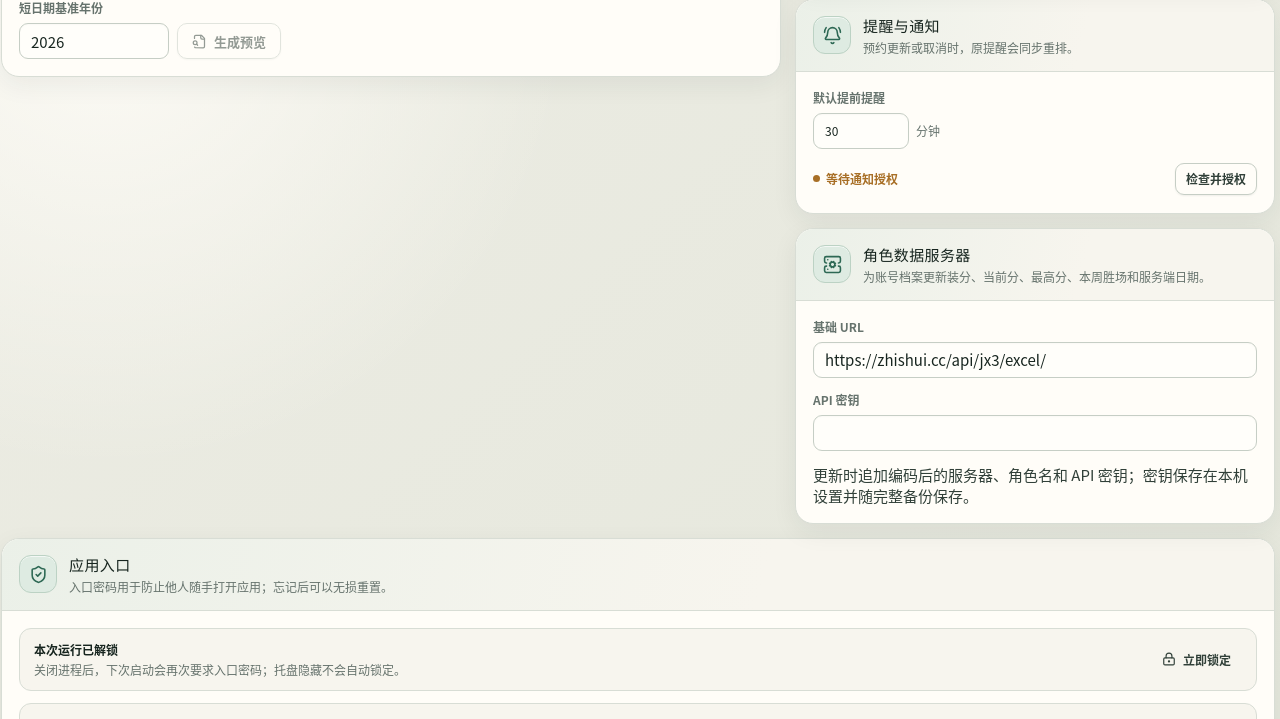
Test: SettingsWorkspace operation progress › loads, validates, and saves the role data server URL and API key
The width and height of the screenshot is (1280, 719).
(page scrolled)
Replace the text in the field named "角色数据服务器基础 URL" with "https://example.test/jx3/" at (1035, 360), box [813, 342, 1257, 378]
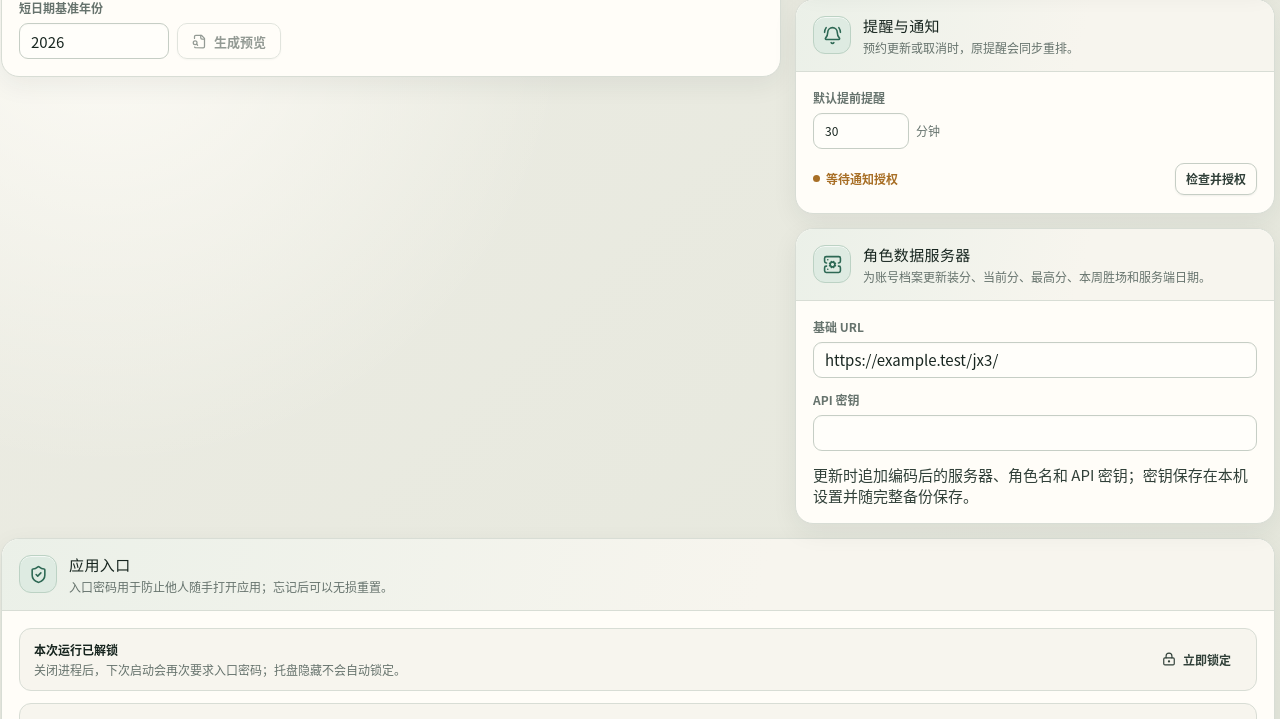
Type "  excel-secret  " into the password field named "角色数据 API 密钥".
click(1035, 433); type("  excel-secret  ")  # box [813, 415, 1257, 451]
(page scrolled)
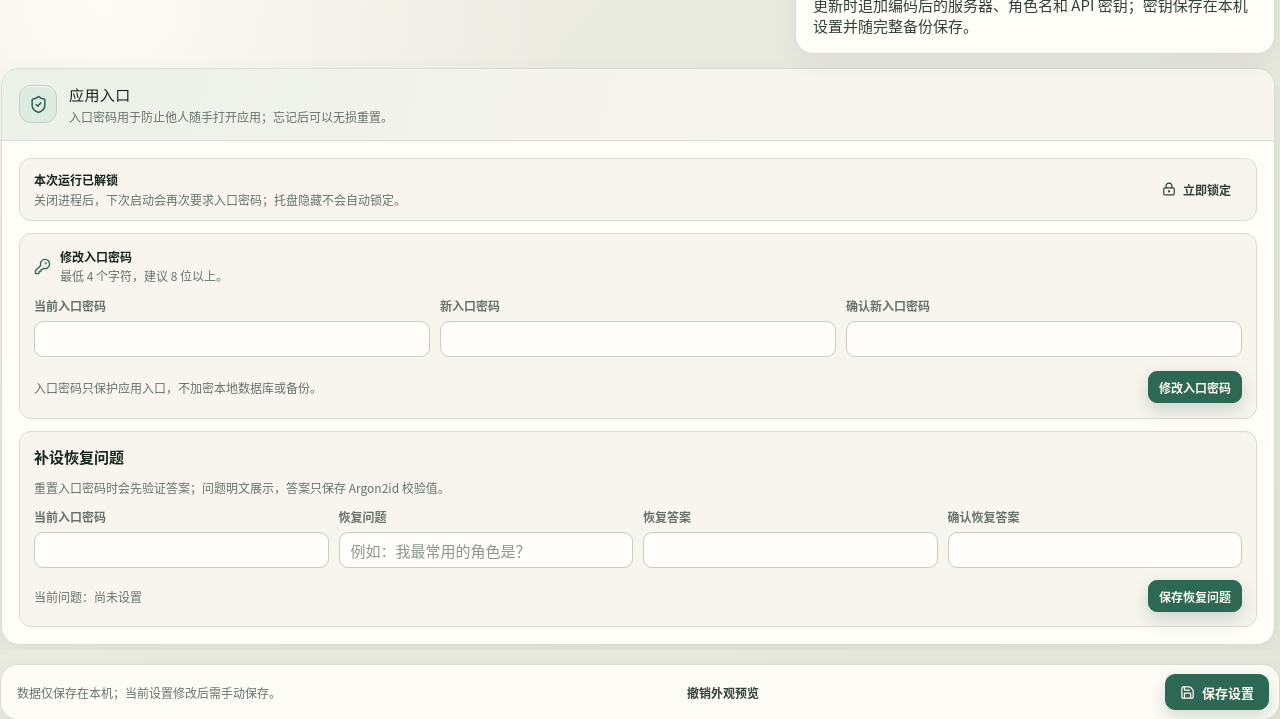
Click the button "保存设置".
click(1217, 692)  # box [1165, 674, 1269, 710]
(page scrolled)
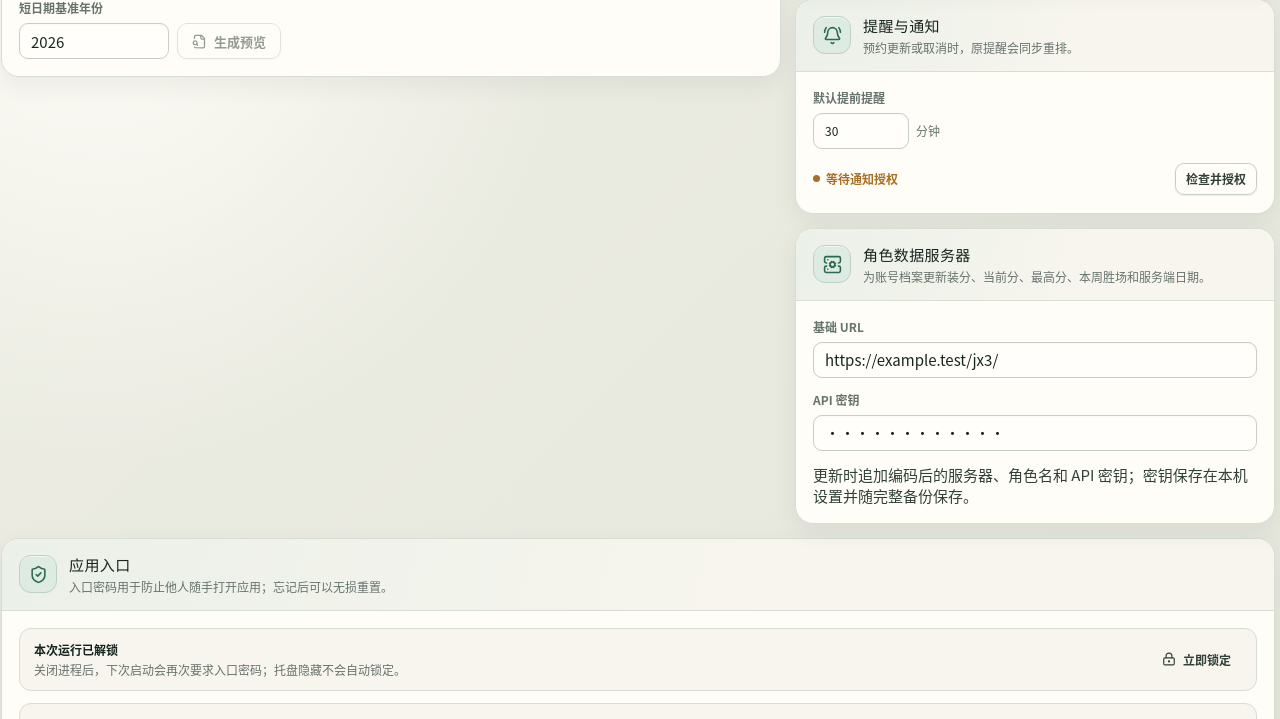
Replace the text in the field named "角色数据服务器基础 URL" with "https://user:password@example.test/jx3/" at (1035, 360), box [813, 342, 1257, 378]
(page scrolled)
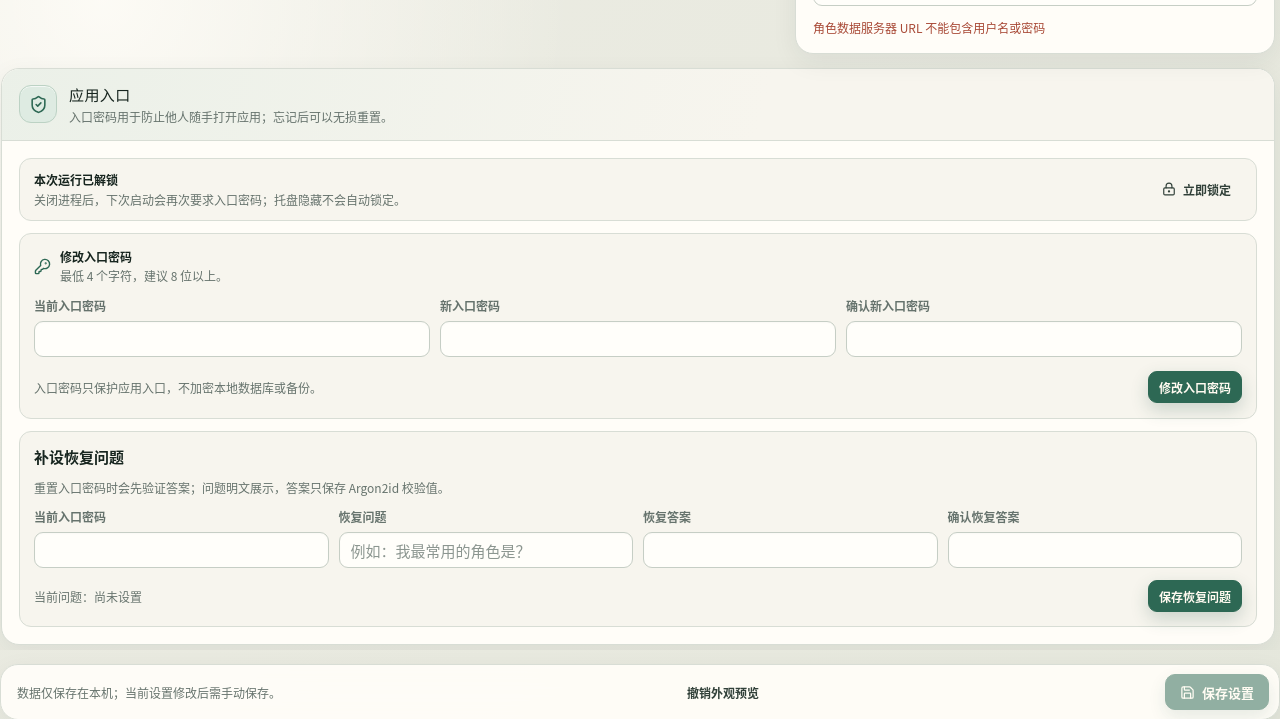
Expected: the message "角色数据服务器 URL 不能包含用户名或密码" is shown, [813, 19, 1045, 36]
Expected: the button "保存设置" is disabled, [1165, 674, 1269, 710]
